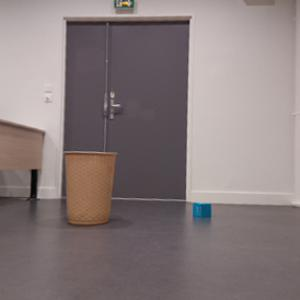medium: (64, 150, 116, 225)
small: (192, 202, 212, 218)
